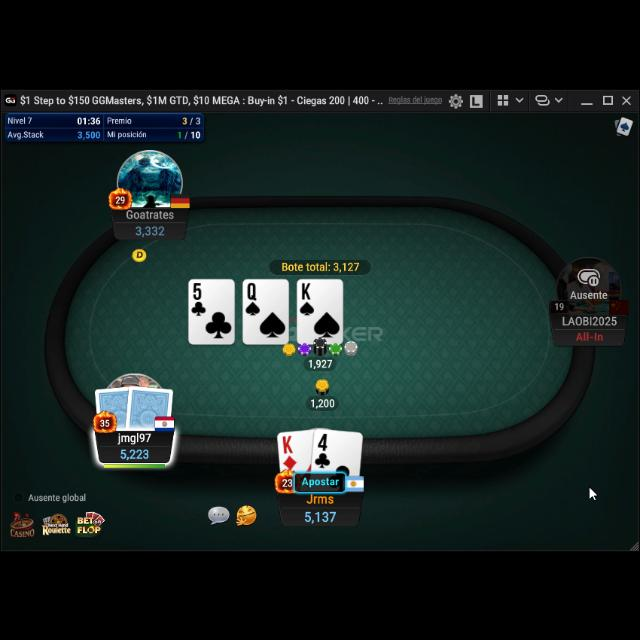4c: (313, 431, 333, 469)
5c: (190, 282, 208, 318)
Kd: (280, 434, 300, 470)
Ks: (298, 281, 316, 317)
Qs: (244, 280, 262, 318)
all_in_symbol: (574, 328, 606, 342)
bet_text: (311, 394, 335, 408), (310, 356, 332, 368)
card_back: (124, 382, 176, 432), (92, 383, 136, 433)
dealer: (130, 244, 148, 262)
pot_text: (282, 260, 362, 272)
stack_text: (302, 506, 338, 522), (134, 222, 166, 236), (119, 445, 151, 459)
